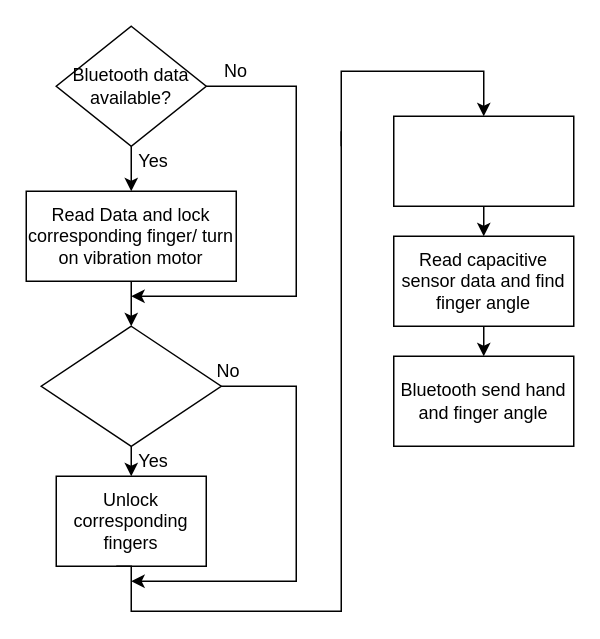
This 600x639 diagram has some shape labels left out. The centre of each missing label's shape, as x and y in pixels:
"Any finger locked and user tries to unlock?" belongs at (x=130, y=385).
"Read and process IMU data to find angle" belongs at (x=483, y=160).
